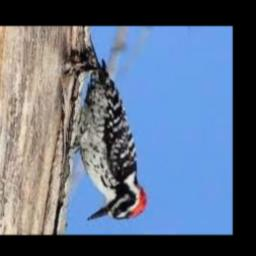Woodpecker: (74, 50, 148, 221)
